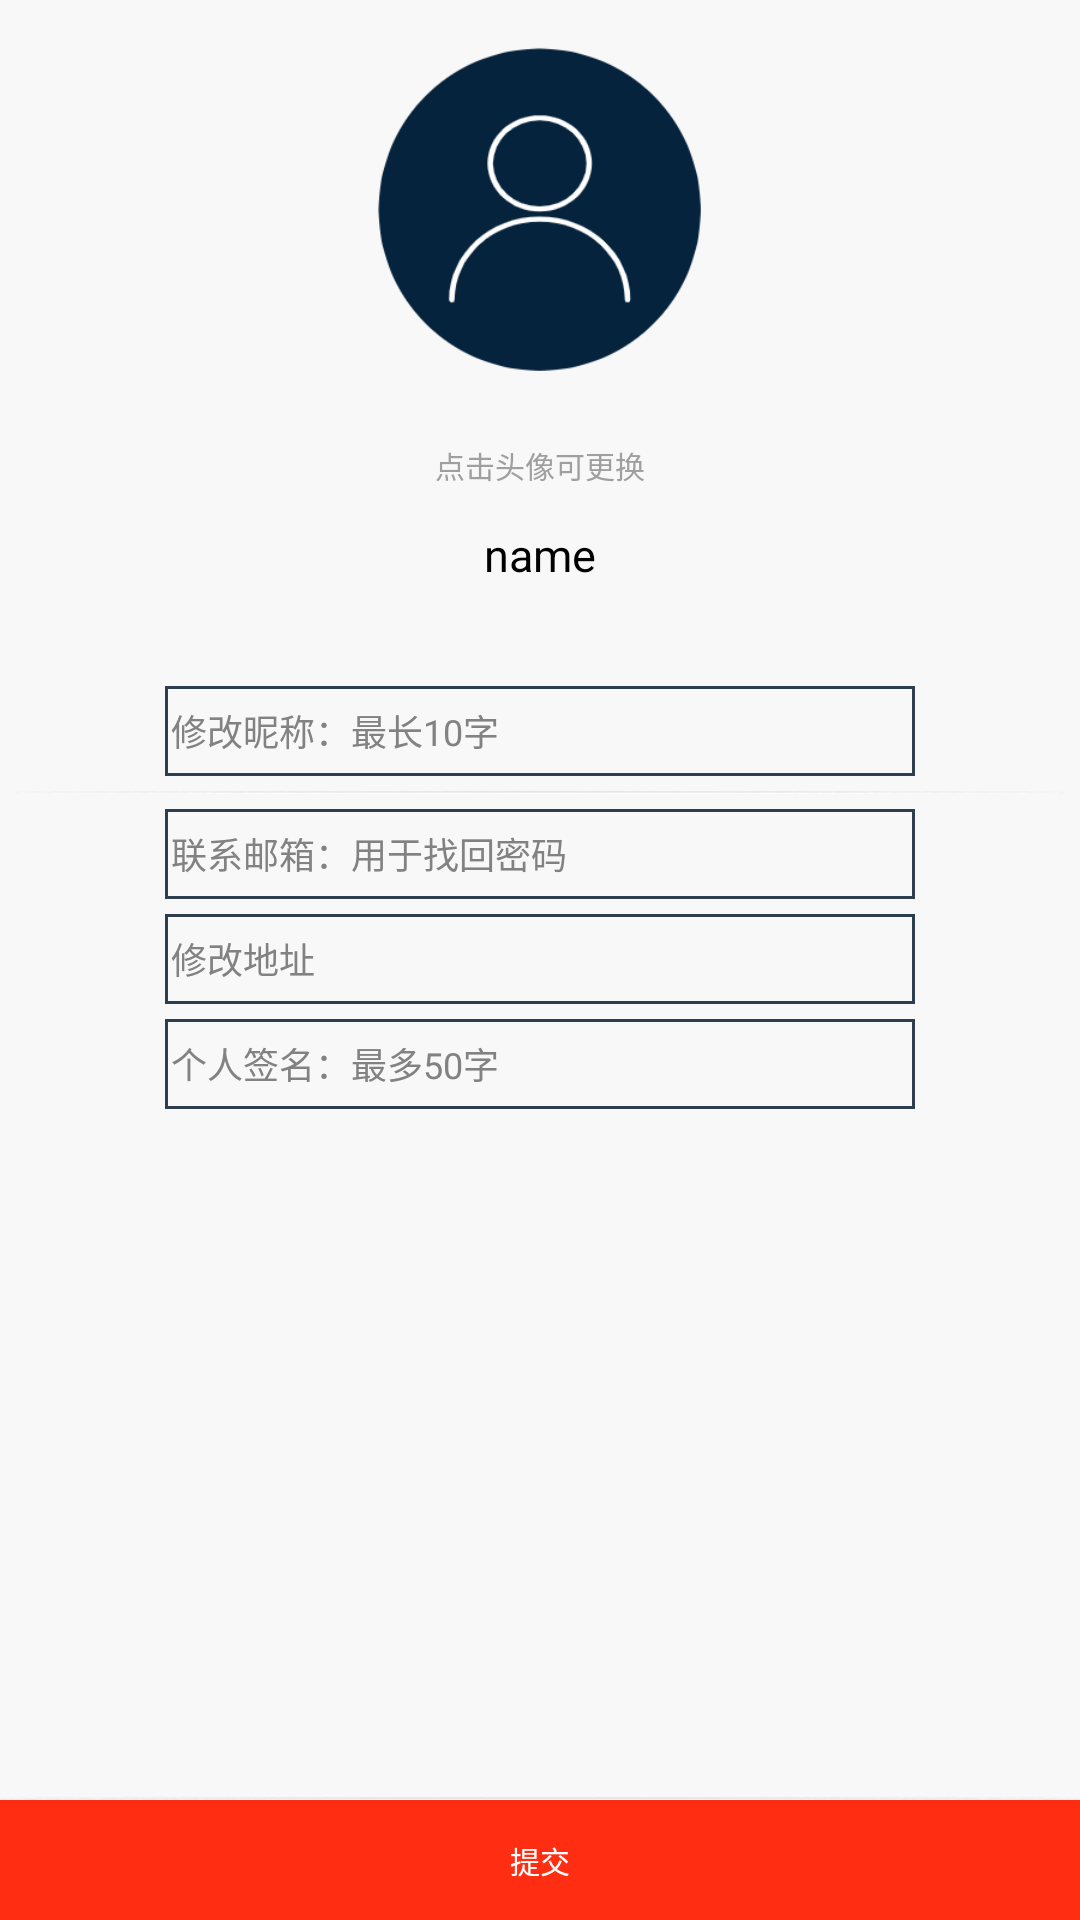

Icon bounding boxes for this 1080px x 1920px phone screenshot, format Rect(x1, y1, x2, y2):
personal: Rect(378, 48, 701, 371)
